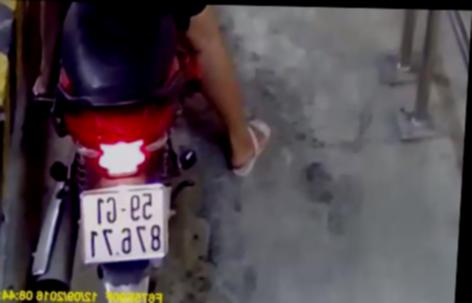License_Plate: (68, 176, 182, 268)
